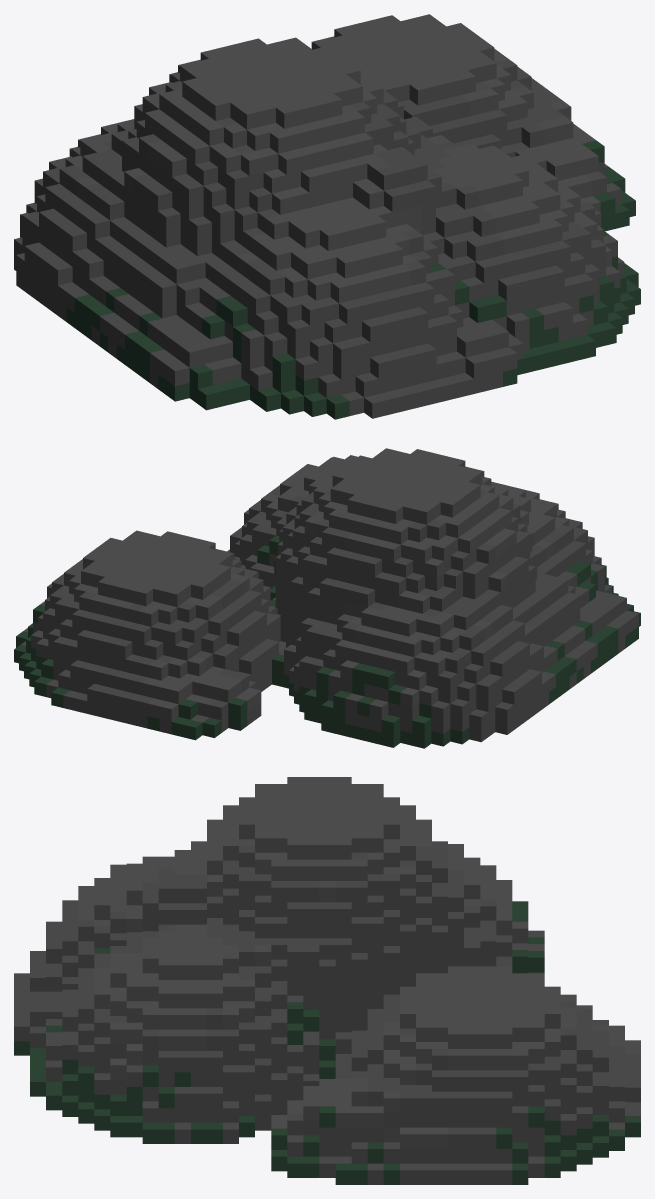
File: stone5.obj
The picture shows the model from 3 angles, top to bottom: view 1: azimuth 30°, elevation 25°; view 2: azimuth 150°, elevation 25°; view 3: azimuth 270°, elevation 25°; orthographic projection. The views are drawn at different scales.
Bounding box in the file's own units: 3.8 × 1.4 × 3.9.
Materials: 1 (1 with a texture image).
